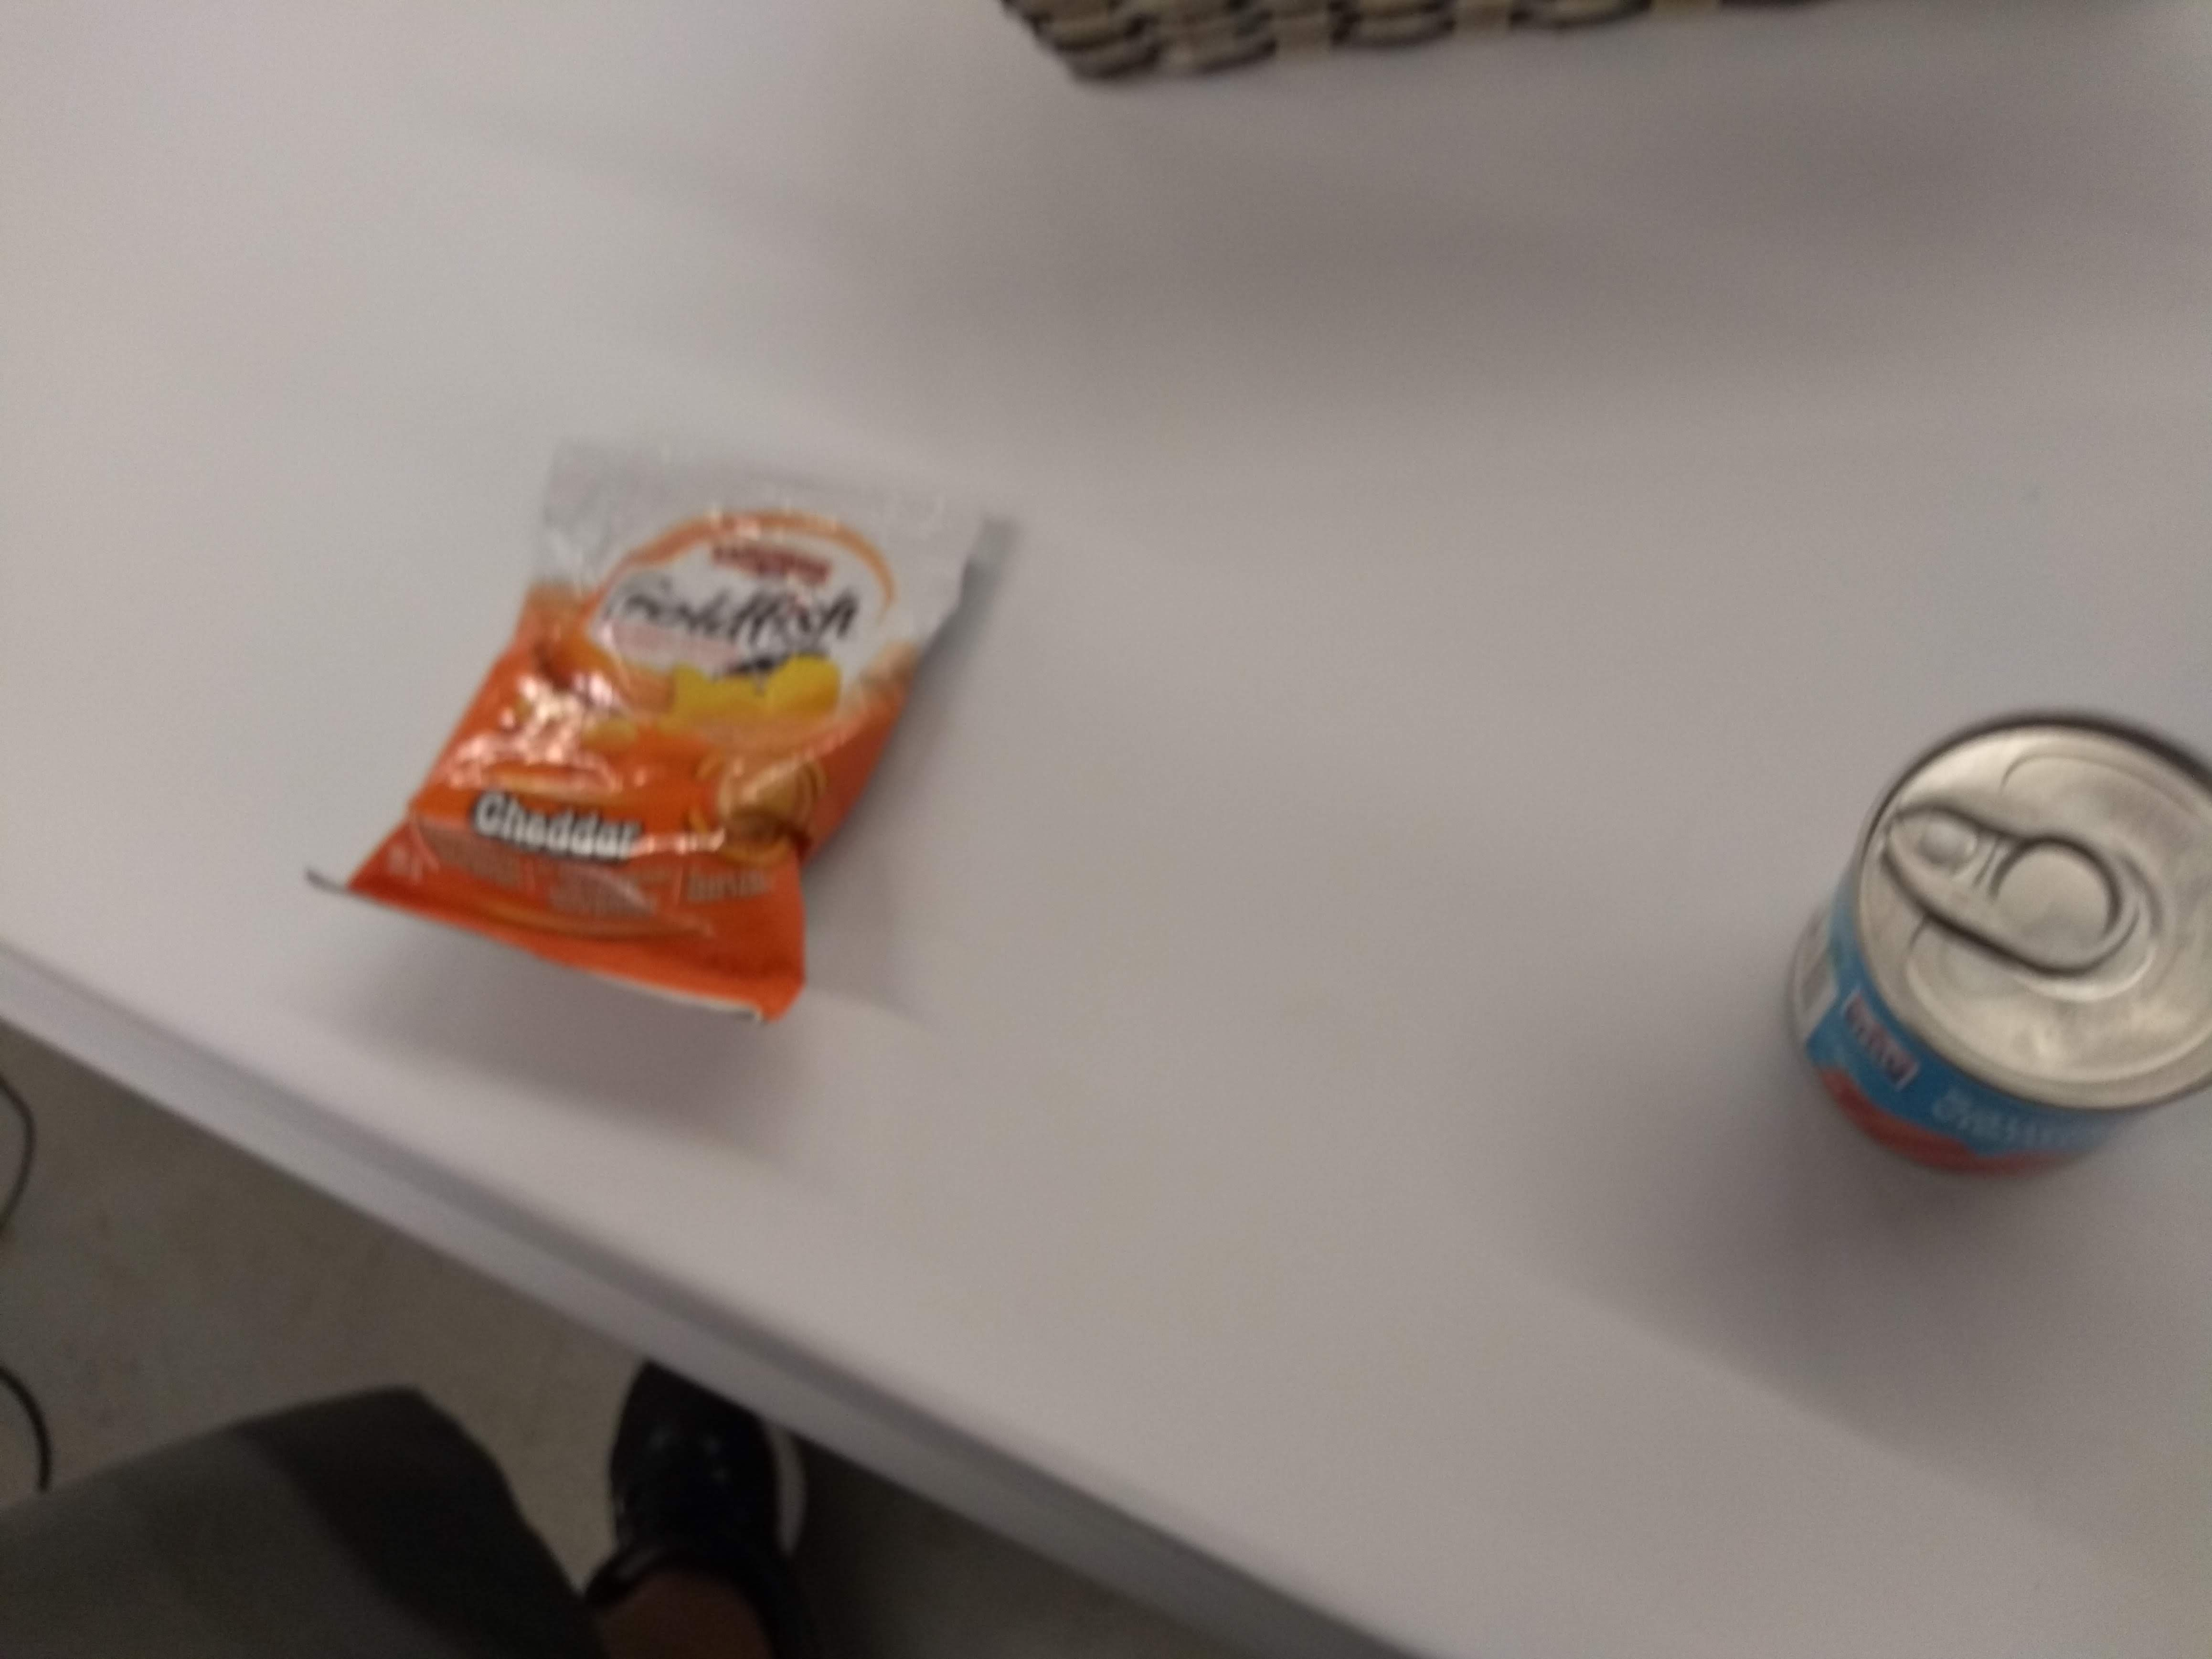crackers: (298, 420, 1035, 1053)
sausages: (1770, 695, 2210, 1195)
